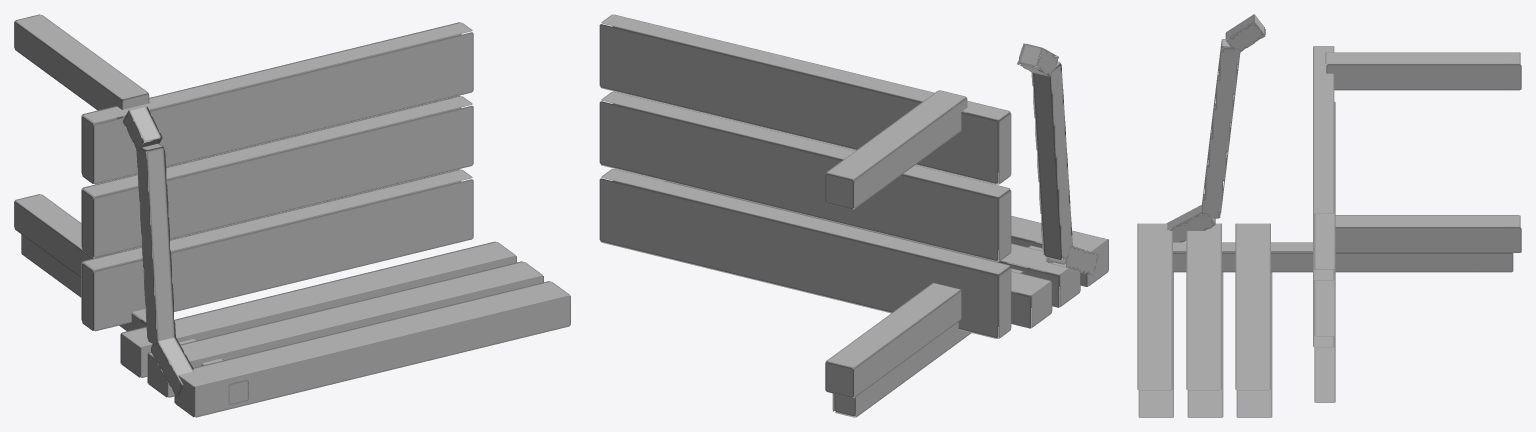
File: pz_benche_seating_outdoor_01_fancy_outdoors_0_0.obj
3 renders of one model, left to right at view 1: azimuth 30°, elevation 25°; view 2: azimuth 150°, elevation 25°; view 3: azimuth 270°, elevation 25°, orthographic. The views are drawn at different scales.
Bounding box in the file's own units: 0.975 × 0.6391 × 0.9403.
1 material, 1 textured.
